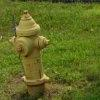a fire hydrant: (14, 13, 48, 87)
